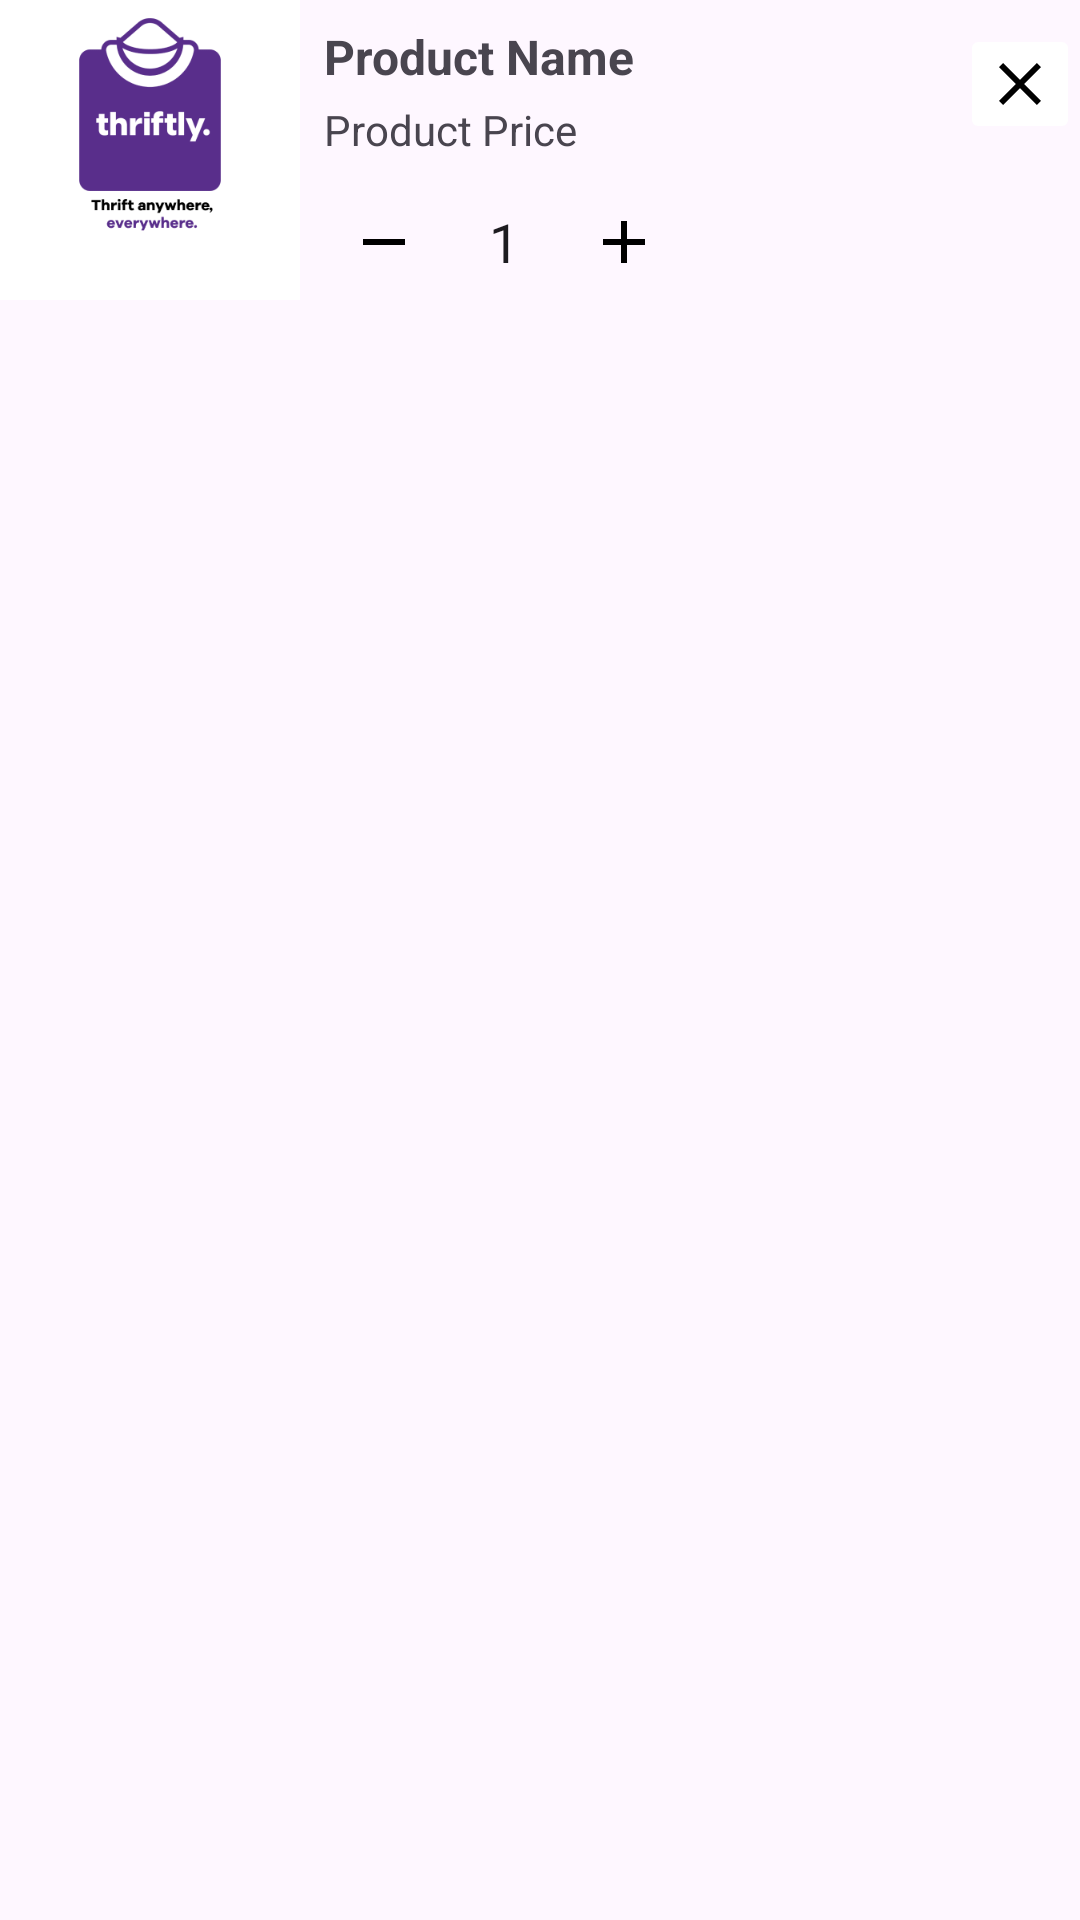

Where icons sit on this 1080 x 1920 app screen, as detection(x1, y1, x2, y2):
add: detection(603, 221, 645, 263)
clear: detection(999, 63, 1041, 105)
